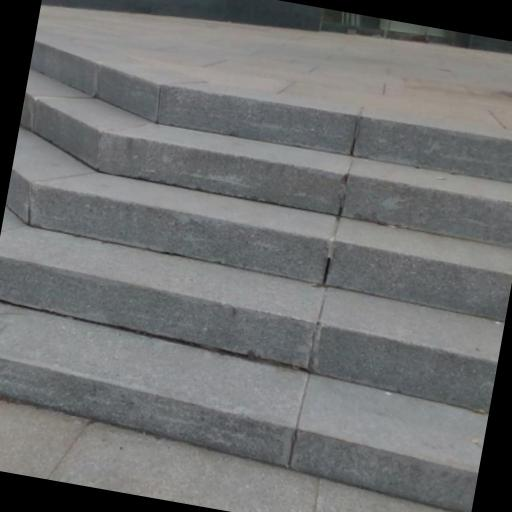stairs: (0, 41, 511, 511)
